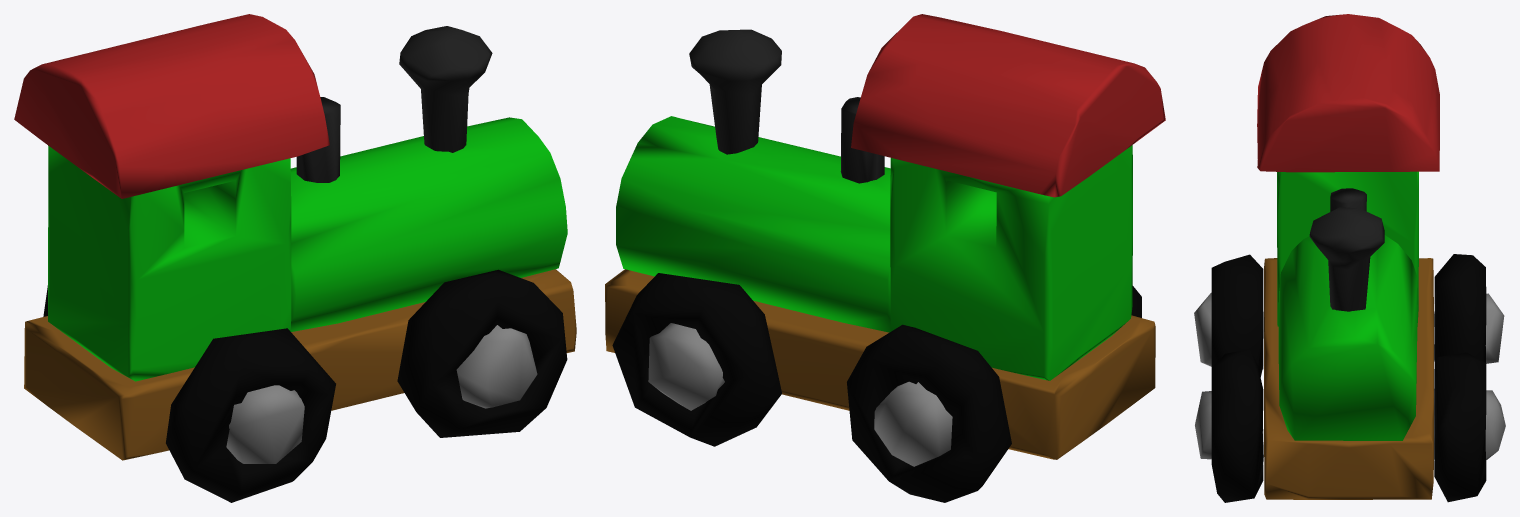
Rendered from train.fbx.
The picture shows the model from 3 angles, left to right: view 1: azimuth 30°, elevation 25°; view 2: azimuth 150°, elevation 25°; view 3: azimuth 270°, elevation 25°; orthographic projection. The views are drawn at different scales.
Visible parts, largest first — view 1: transform1; view 2: transform1; view 3: transform1.
Boxes of the visible parts, x1,y1,x2,y2 form: transform1: (14,14,576,502); transform1: (605,14,1165,502); transform1: (1194,14,1505,502).
Size of the model in its own units: 8.6 by 7.2 by 5.99.
